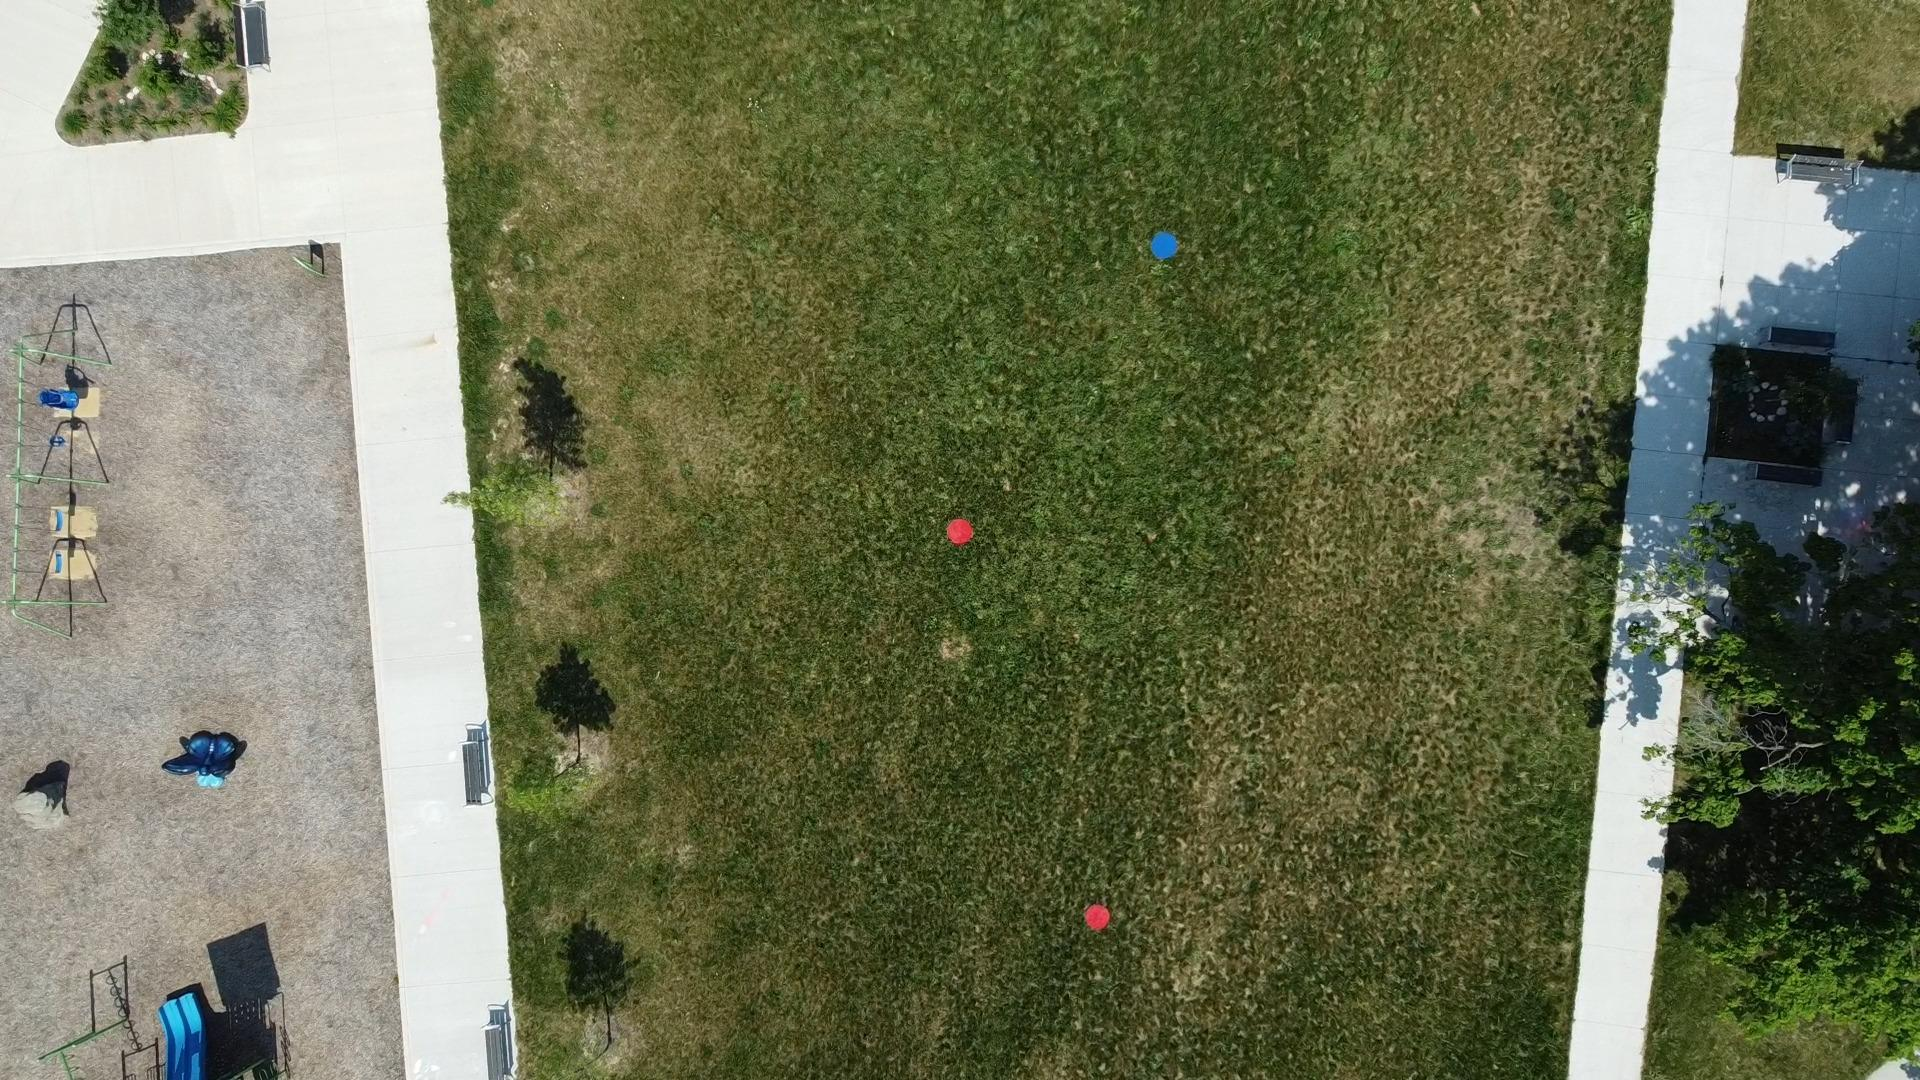Blue: (1149, 231, 1179, 260)
Red: (1083, 902, 1112, 932), (945, 518, 975, 547)
